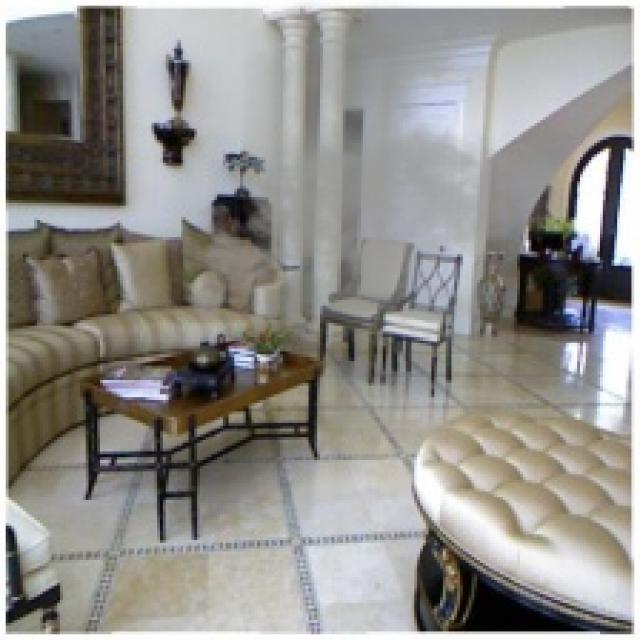smoke: (171, 0, 578, 372)
